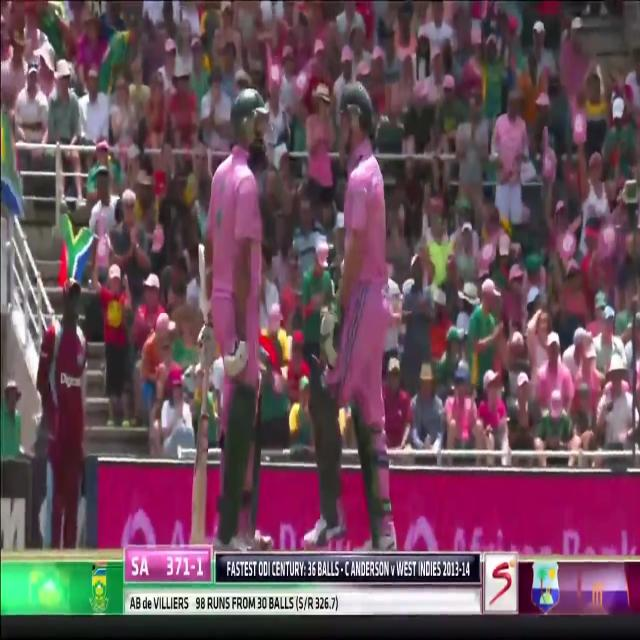Ball: (288, 86, 412, 558), (194, 85, 288, 566)
